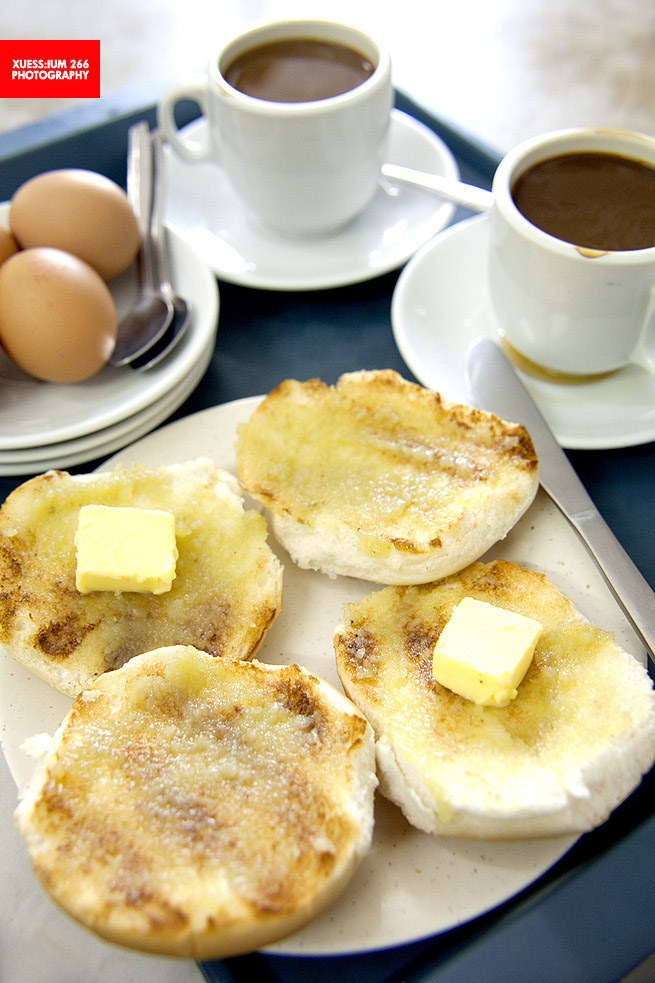slice of bread: (15, 680, 379, 923), (351, 593, 628, 816), (25, 468, 279, 660), (254, 382, 523, 555)
